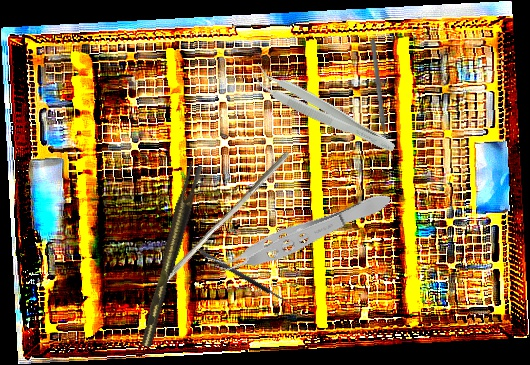Hook Surgical: (198, 244, 303, 311), (260, 195, 378, 254)
Pusher: (156, 145, 291, 293), (369, 39, 390, 154)
Tissue Forceps: (202, 183, 396, 286), (246, 61, 402, 158), (131, 162, 209, 348)
